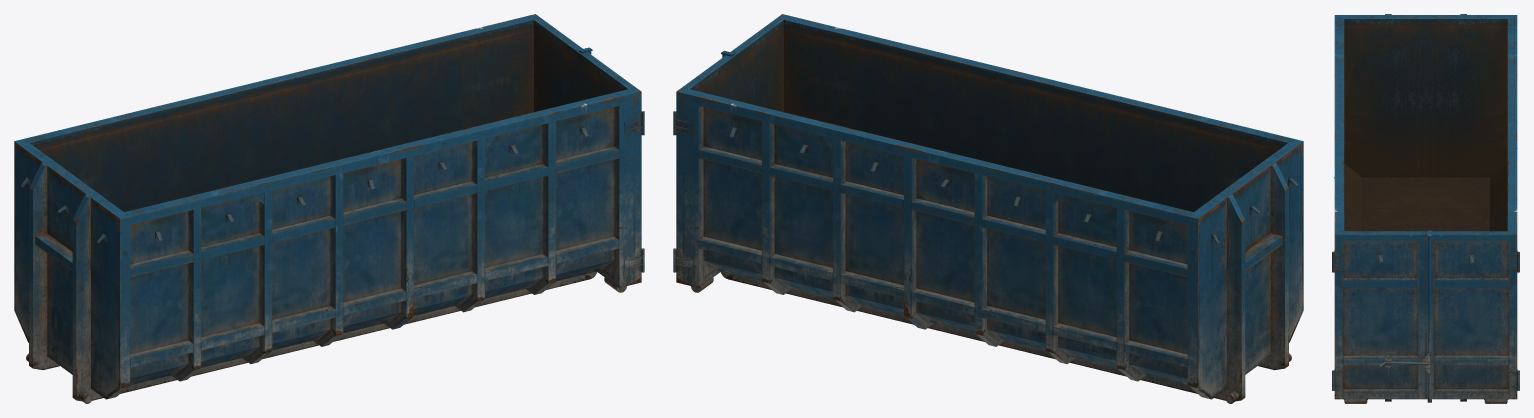
Rendered from garbage_container_blue.glb.
3 renders of one model, left to right at view 1: azimuth 30°, elevation 25°; view 2: azimuth 150°, elevation 25°; view 3: azimuth 270°, elevation 25°, orthographic. The views are drawn at different scales.
Visible parts, largest first — view 1: AssetMesh_001; view 2: AssetMesh_001; view 3: AssetMesh_001.
Boxes of the visible parts, x1=… form: AssetMesh_001: x1=14, y1=14, x2=644, y2=403; AssetMesh_001: x1=673, y1=14, x2=1303, y2=403; AssetMesh_001: x1=1332, y1=14, x2=1519, y2=403.
Size of the model in its own units: 3.35 by 1.2 by 1.15.
Materials: 1 (1 with a texture image).
